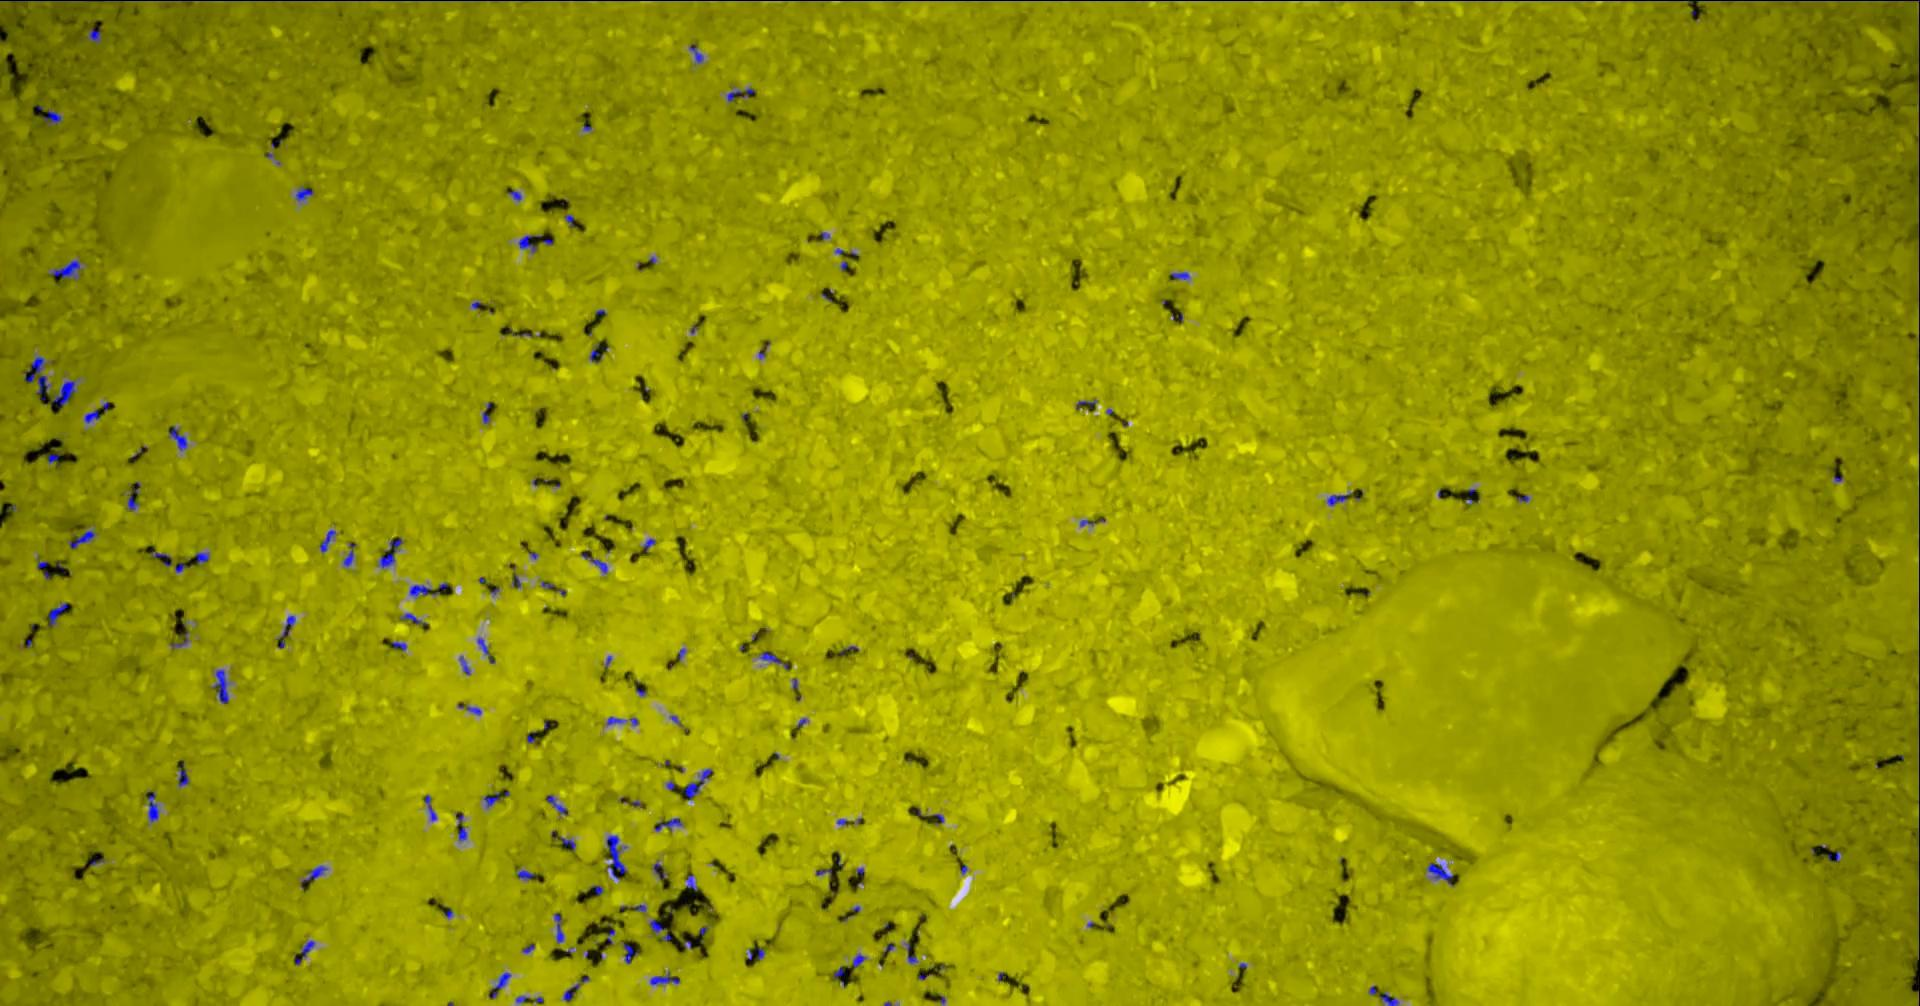ant: (25, 354, 52, 400), (608, 835, 629, 878), (686, 768, 712, 798), (378, 537, 404, 567), (53, 380, 77, 406), (302, 865, 329, 889), (52, 259, 83, 279), (279, 615, 297, 648), (1429, 862, 1454, 885), (490, 972, 512, 998), (582, 553, 610, 573), (213, 669, 230, 702), (411, 582, 450, 596), (761, 652, 790, 669), (477, 636, 497, 663), (296, 940, 316, 964), (71, 530, 97, 547), (50, 602, 69, 625), (171, 426, 189, 450), (728, 86, 756, 102), (485, 790, 510, 807), (651, 970, 681, 984), (149, 791, 161, 822), (549, 794, 568, 814), (521, 235, 543, 251), (657, 817, 683, 831), (401, 612, 429, 625), (321, 528, 337, 551), (425, 794, 438, 821), (1330, 492, 1354, 506), (152, 550, 173, 567), (130, 481, 141, 511), (457, 810, 469, 840), (625, 942, 640, 963), (38, 555, 51, 579), (555, 913, 565, 942), (565, 982, 582, 1000), (44, 109, 63, 124), (556, 836, 577, 850), (345, 542, 357, 567), (691, 43, 705, 62), (590, 343, 604, 362), (180, 761, 190, 786), (297, 185, 315, 199), (1382, 992, 1399, 1005), (86, 409, 102, 423), (651, 920, 667, 934), (654, 862, 667, 879), (518, 869, 536, 879), (89, 28, 103, 41), (855, 953, 867, 967), (196, 553, 210, 564), (1, 0, 126, 1), (1919, 19, 1920, 104)
